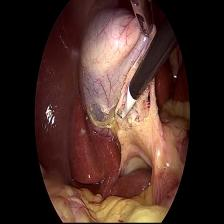Grasper: (128, 0, 155, 37)
Hook: (112, 86, 138, 124)
